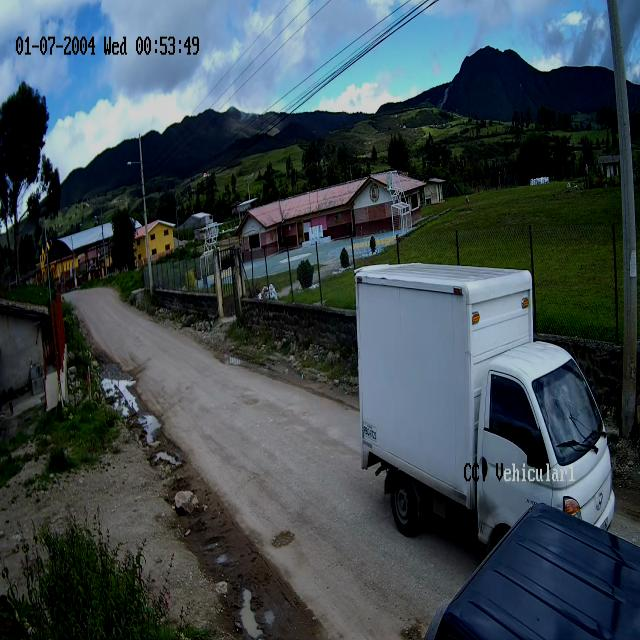TRUCK: (355, 266, 616, 548)
